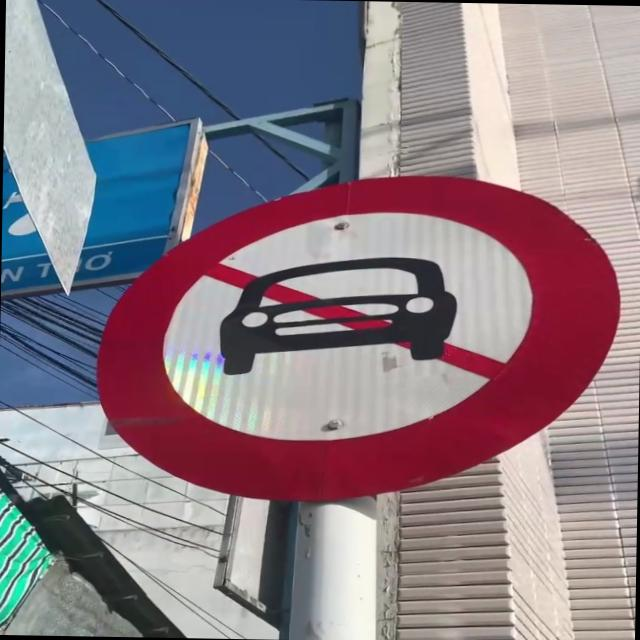Cam_O_To: (92, 164, 626, 511)
